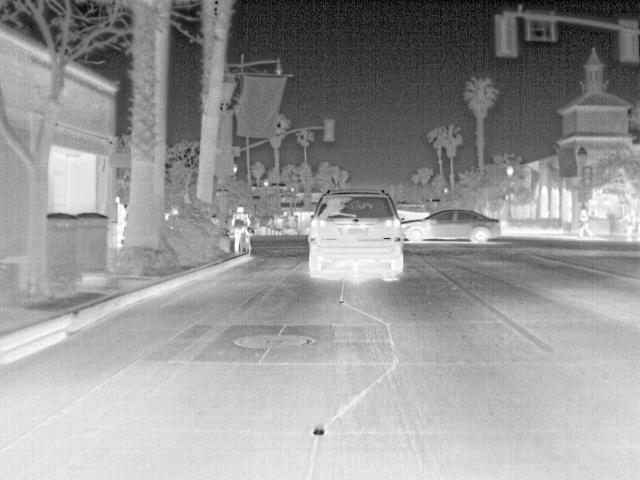car: (307, 186, 410, 282), (398, 207, 504, 245)
person: (231, 206, 255, 252), (114, 196, 128, 250), (617, 210, 640, 241), (577, 211, 597, 239)
